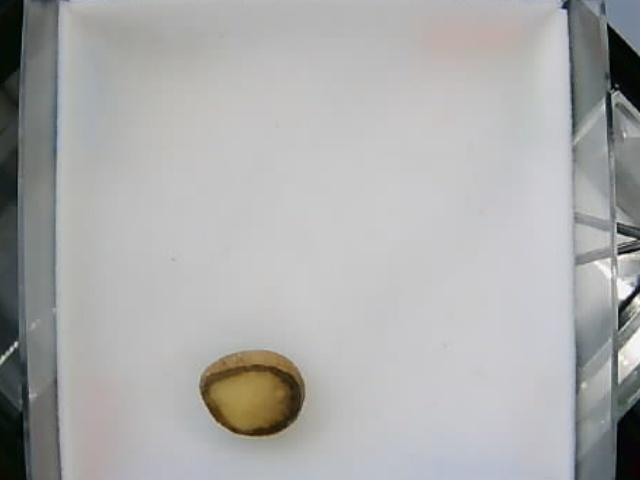Potato: (197, 347, 308, 439)
